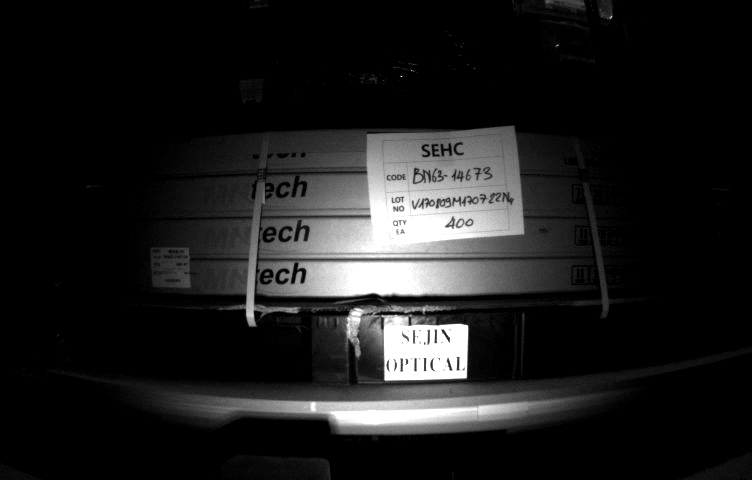True Barcode: (151, 244, 197, 292)
